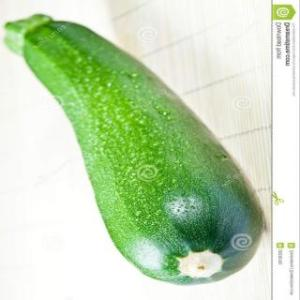zucchini: (0, 15, 268, 283)
